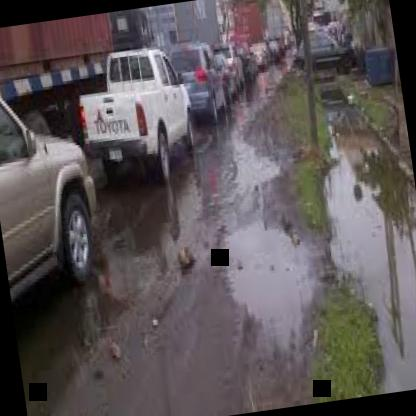car: (0, 50, 113, 315), (66, 19, 208, 193), (163, 22, 235, 134), (283, 9, 361, 92)
